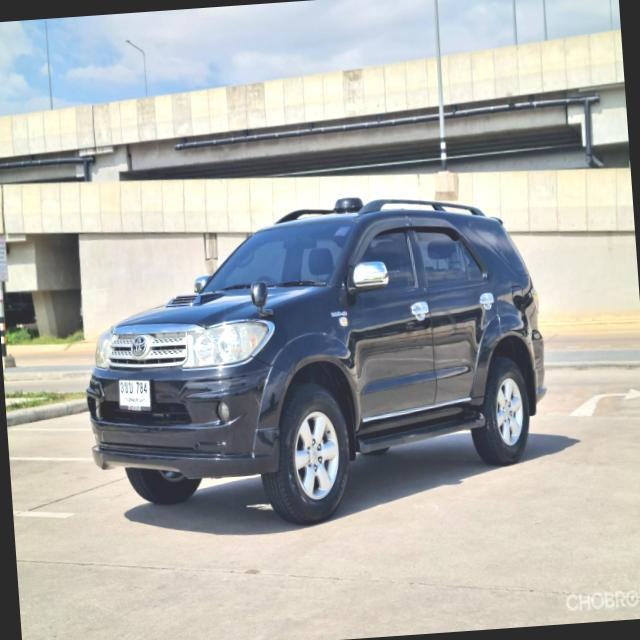license_plate: (114, 373, 156, 418)
